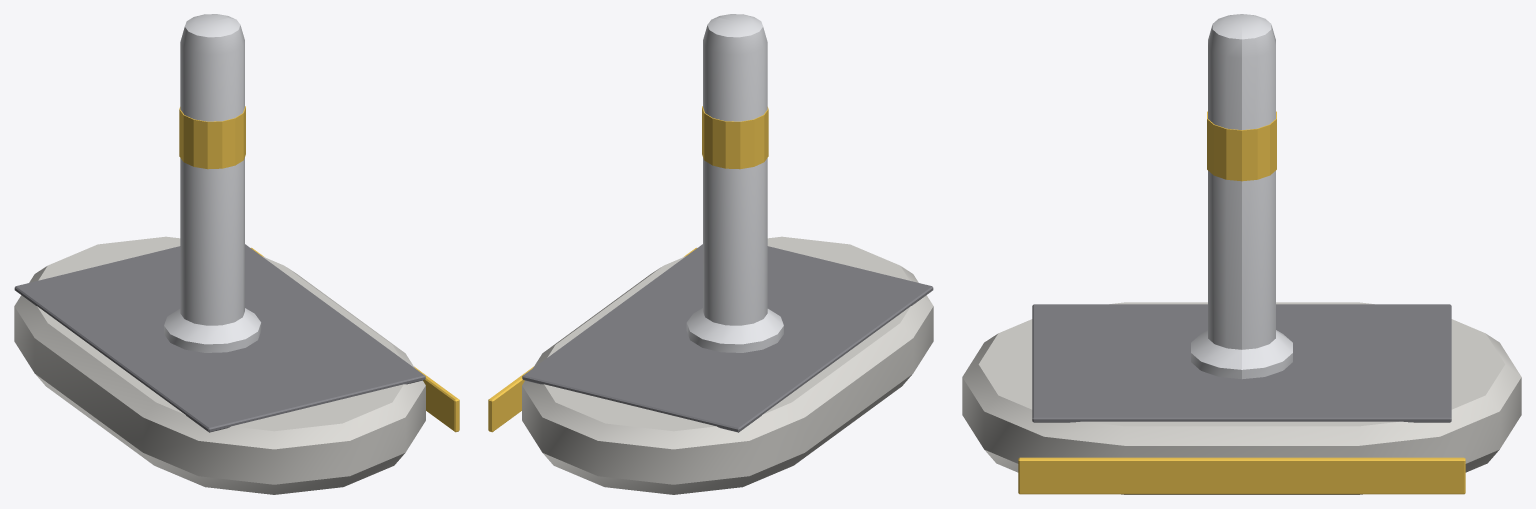
The model's file is petrol-station-and-forecourt-shop-island-end-cap-446f2a24__33942.glb.
3 renders of one model, left to right at view 1: azimuth 30°, elevation 25°; view 2: azimuth 150°, elevation 25°; view 3: azimuth 270°, elevation 25°, orthographic. The views are drawn at different scales.
Parts seen in each view (by area): view 1: island-end-cap; view 2: island-end-cap; view 3: island-end-cap.
Boxes of the visible parts, x1,y1,x2,y2 form: island-end-cap: [14, 14, 459, 494]; island-end-cap: [488, 14, 933, 494]; island-end-cap: [962, 14, 1521, 494].
Size of the model in its own units: 0.713 by 0.96 by 1.2.
